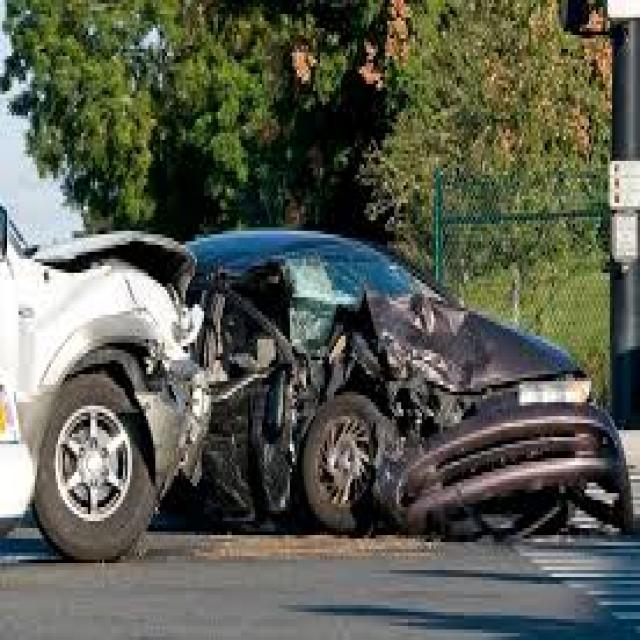accident: (35, 139, 583, 586)
